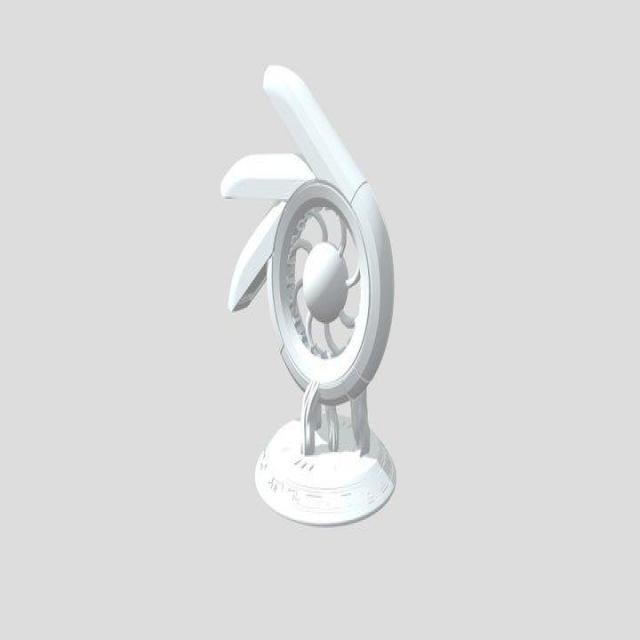Without deffect: (210, 47, 410, 540)
